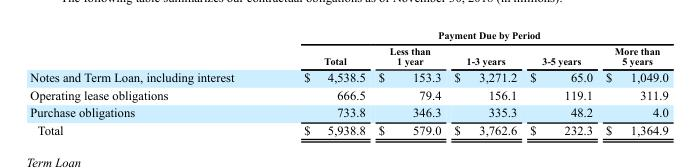table: (29, 28, 667, 136)
table column: (29, 28, 268, 136), (268, 28, 371, 136), (446, 28, 522, 136), (522, 28, 598, 136), (371, 28, 446, 136), (598, 28, 667, 136)
table column header: (29, 28, 667, 67)
table row: (29, 42, 667, 67), (29, 67, 667, 85), (29, 85, 667, 103), (29, 103, 667, 120), (29, 120, 667, 136), (29, 28, 667, 42)
table spanning cell: (268, 28, 667, 42)
